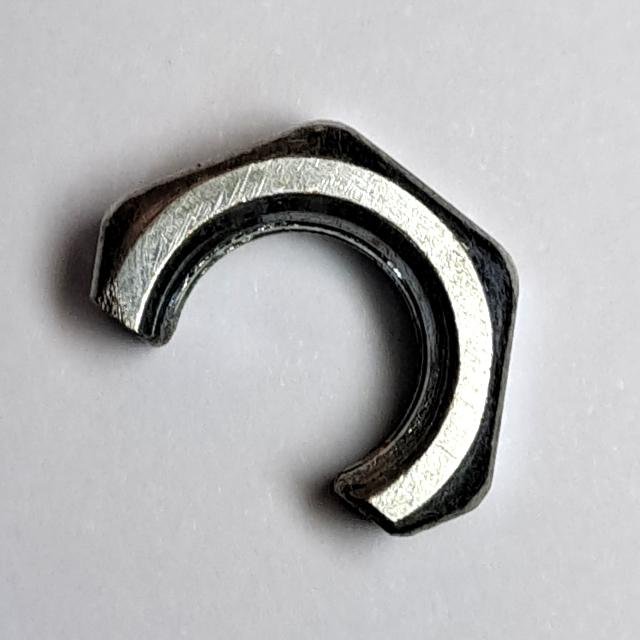Fracture: (76, 108, 533, 551)
